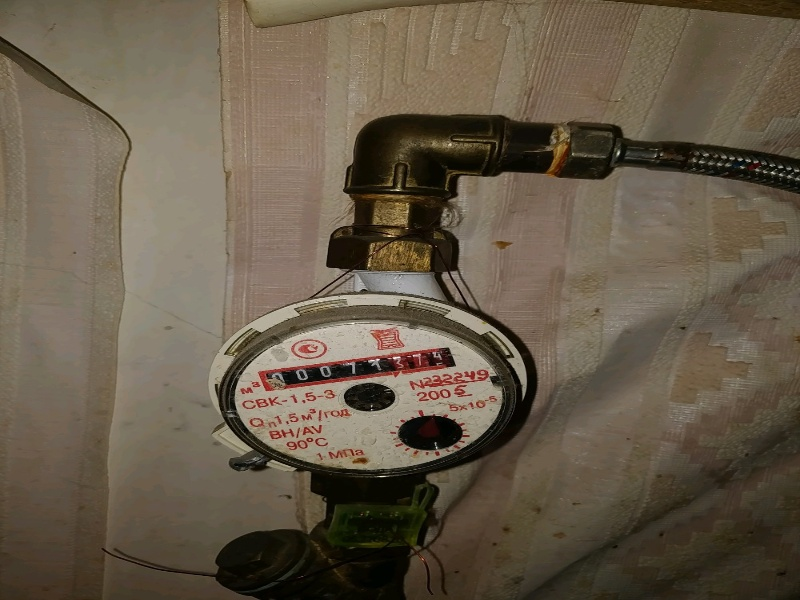meter: (257, 358, 448, 381)
